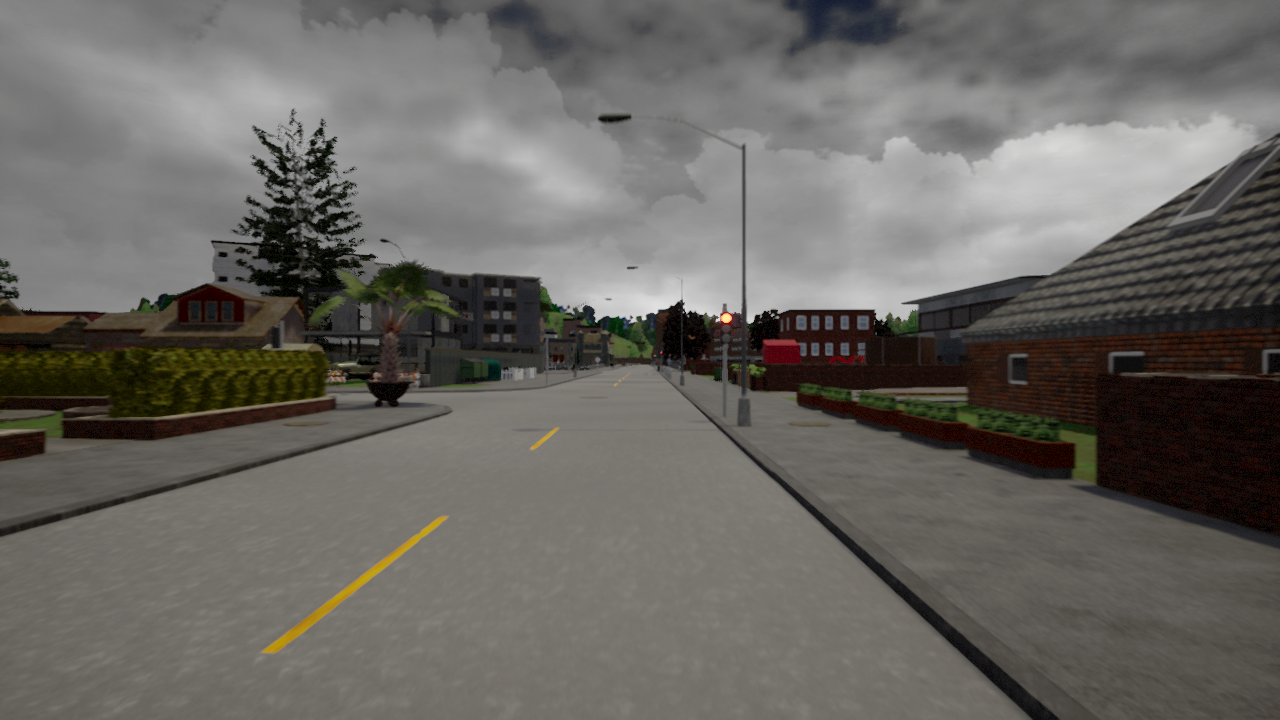red: (719, 313, 731, 345)
